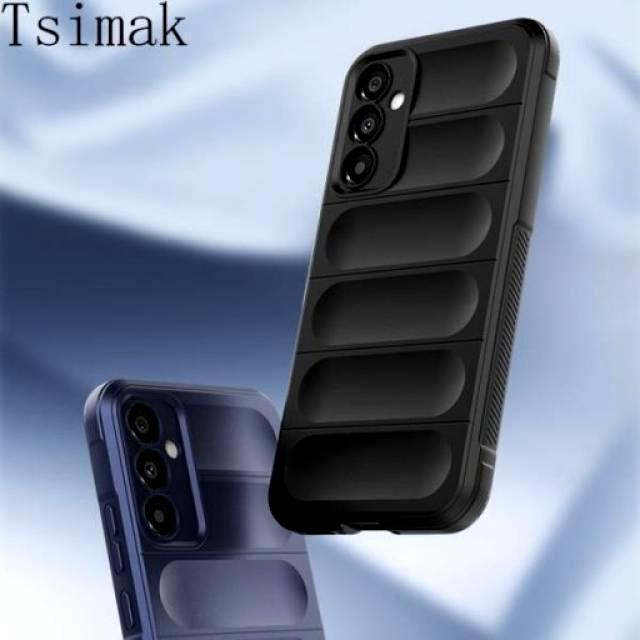lens_back: (352, 60, 398, 104), (126, 402, 168, 448), (337, 147, 378, 188), (346, 105, 386, 145), (134, 450, 172, 492), (142, 496, 180, 538)
phone: (269, 22, 560, 523), (80, 375, 324, 640)
